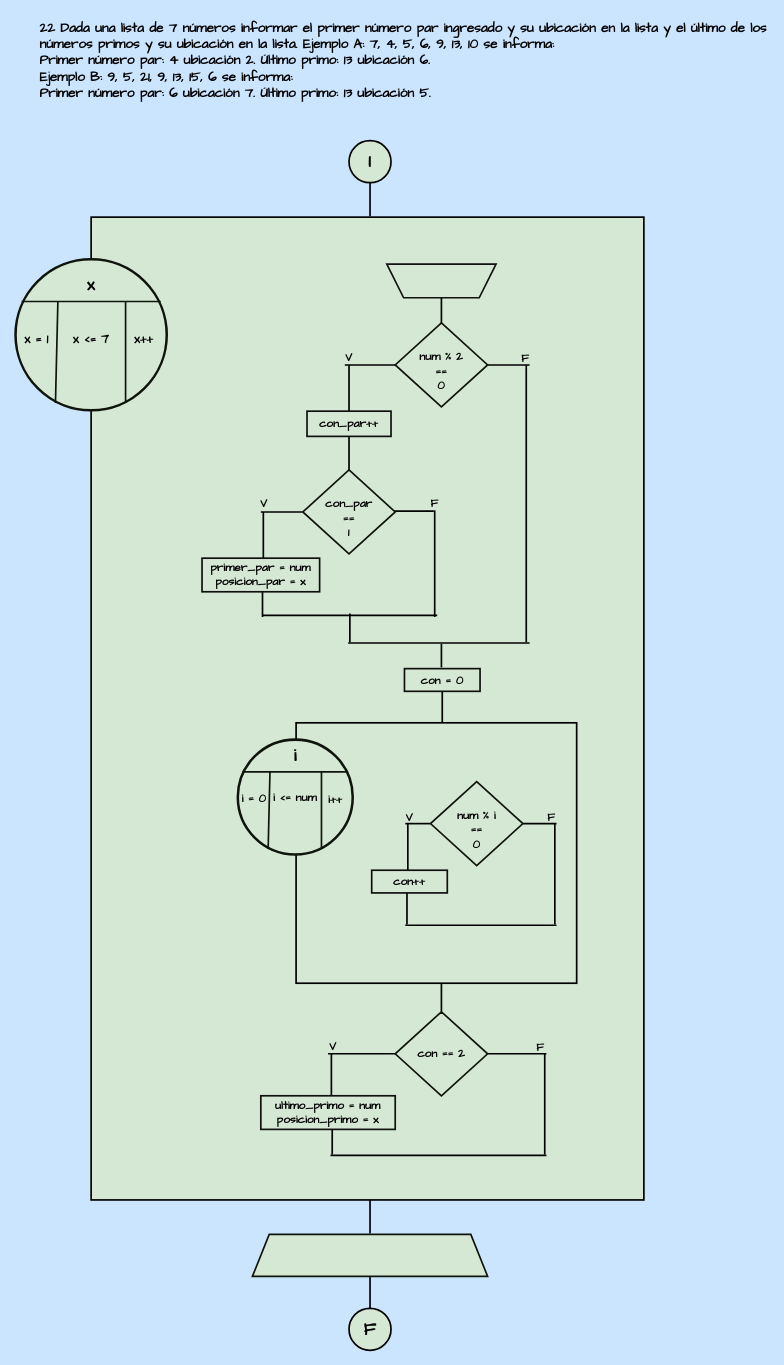
Image size: 784x1365. Some labels were removed from this diagram. Here are the shapes that lost their labels. From the top down, the centre of each, then its label:
pixel 441 280: num
pixel 369 1255: primer_par, posicion_par, ultimo_primo, posicion_primo
